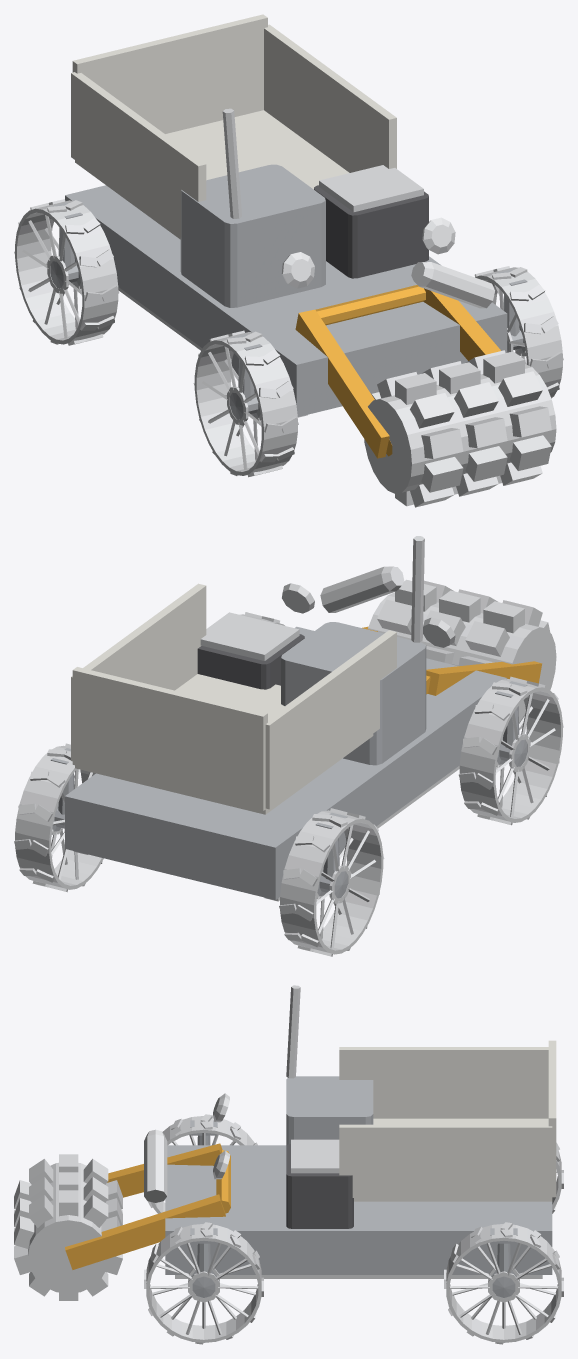
File: regolith-excavator-64b4560f.glb
3 renders of one model, top to bottom at view 1: azimuth 30°, elevation 25°; view 2: azimuth 150°, elevation 25°; view 3: azimuth 270°, elevation 25°, orthographic. The views are drawn at different scales.
Visible parts, largest first — view 1: regolith-excavator, dump-body, bucket-drum, wheel-front-left, wheel-rear-left, boom, wheel-front-right; view 2: regolith-excavator, dump-body, wheel-front-left, wheel-rear-left, bucket-drum, wheel-rear-right, boom; view 3: regolith-excavator, dump-body, bucket-drum, wheel-rear-right, wheel-front-right, boom, wheel-front-left, steer-front-right, steer-rear-right.
Boxes of the visible parts, left/top/right/bottom form: regolith-excavator: left=65, top=108, right=507, bottom=417; dump-body: left=71, top=14, right=396, bottom=239; bucket-drum: left=364, top=350, right=556, bottom=507; wheel-front-left: left=193, top=330, right=298, bottom=477; wheel-rear-left: left=14, top=199, right=119, bottom=345; boom: left=295, top=285, right=500, bottom=458; wheel-front-right: left=474, top=266, right=563, bottom=398; regolith-excavator: left=65, top=536, right=507, bottom=901; dump-body: left=71, top=583, right=396, bottom=814; wheel-front-left: left=458, top=676, right=563, bottom=825; wheel-rear-left: left=279, top=808, right=384, bottom=956; bucket-drum: left=368, top=579, right=556, bottom=729; wheel-rear-right: left=14, top=743, right=103, bottom=892; boom: left=362, top=626, right=542, bottom=695; regolith-excavator: left=144, top=985, right=552, bottom=1278; dump-body: left=339, top=1040, right=556, bottom=1201; bucket-drum: left=14, top=1154, right=122, bottom=1300; wheel-rear-right: left=444, top=1222, right=563, bottom=1344; wheel-front-right: left=144, top=1222, right=263, bottom=1344; boom: left=65, top=1143, right=230, bottom=1269; wheel-front-left: left=148, top=1114, right=257, bottom=1213; steer-front-right: left=190, top=1228, right=217, bottom=1272; steer-rear-right: left=490, top=1228, right=517, bottom=1272.
Size of the model in its own units: 2.98 by 2.94 by 5.68.
